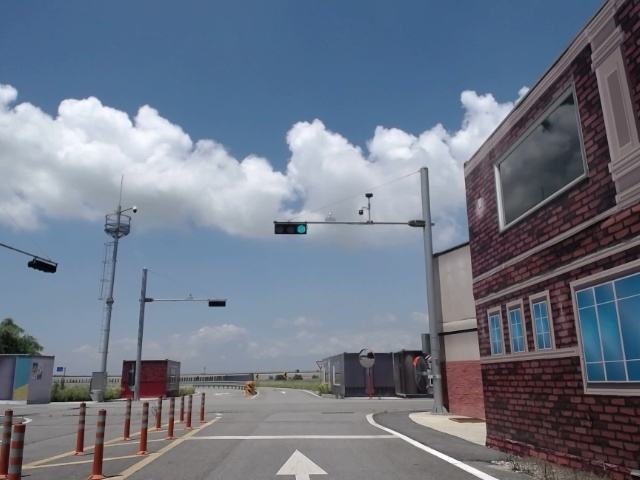green_3: (275, 223, 306, 234)
